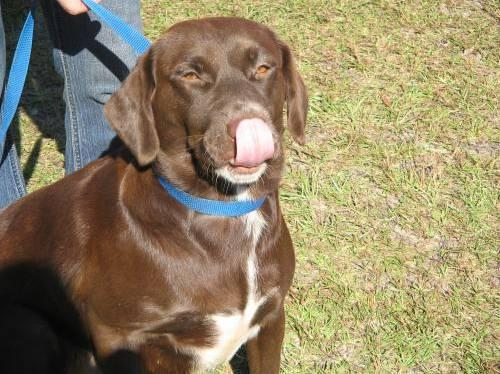dog: (0, 17, 307, 373)
